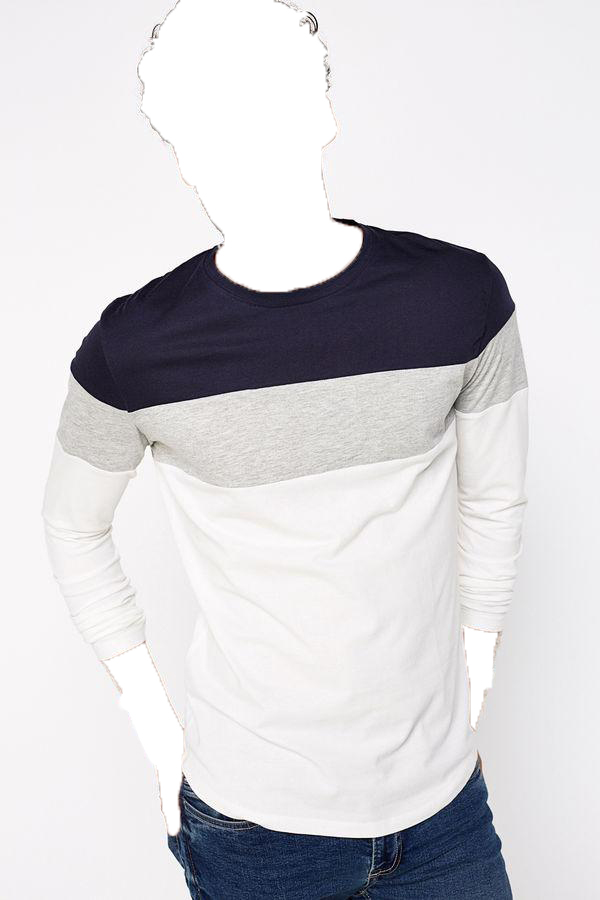teeshirt: (37, 222, 546, 844)
